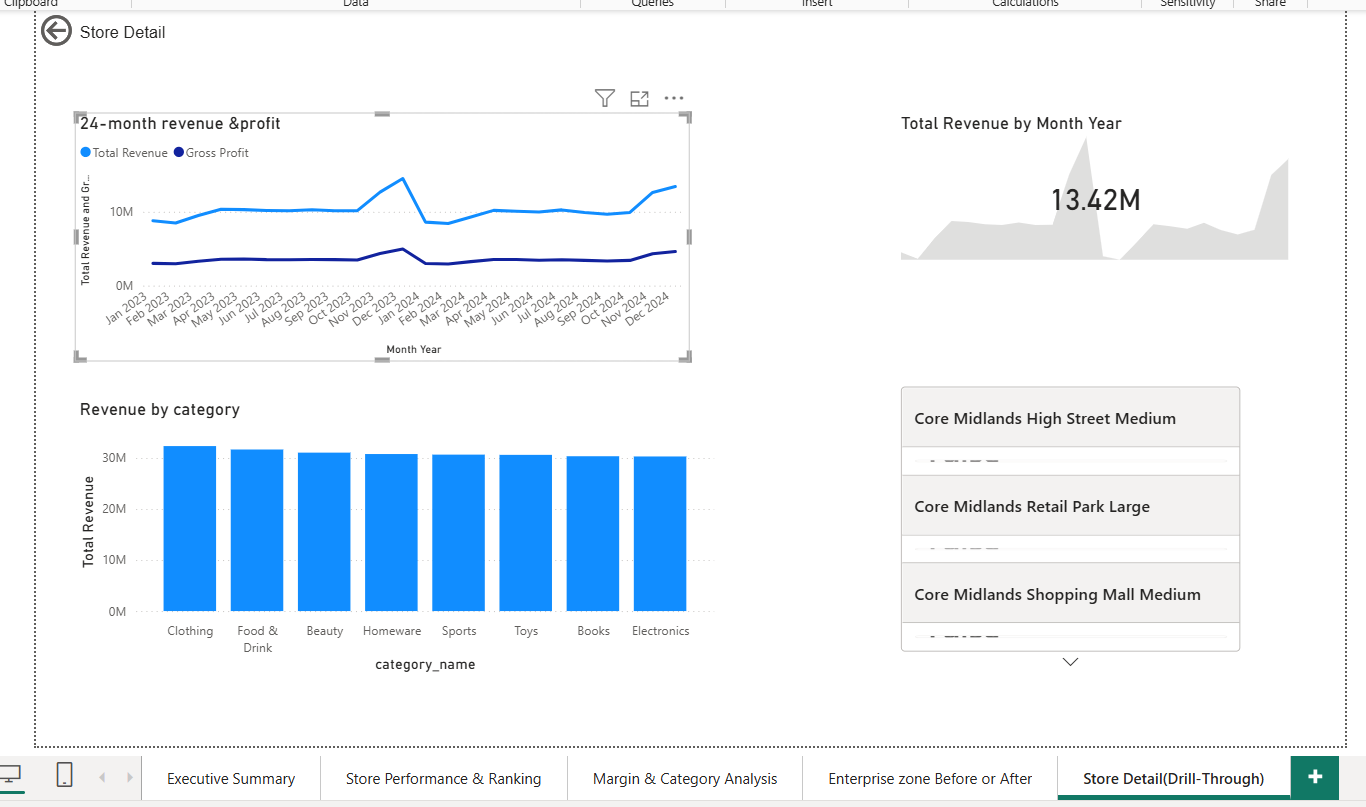

This screenshot's page, from the dashboard's own definition file:
{"tool":"powerbi","page":{"name":"Store Detail(Drill-Through)","canvas":[1280,720],"ordinal":4},"visuals":[{"type":"actionButton","box":[0,0,100,40],"z":0},{"type":"actionButton","box":[0,0,100,40],"z":4000},{"type":"textbox","box":[37.9,8.6,552.7,31.8],"z":5000},{"type":"lineChart","title":"24-month revenue &profit","fields":{"Category":["DateTable.Month Year"],"Y":["Table.Total Revenue","Table.Gross Profit"]},"box":[37.9,100.3,601.6,243.3],"z":5001},{"type":"clusteredColumnChart","title":"Revenue by category","fields":{"Category":["Categories.category_name"],"Y":["Table.Total Revenue"]},"box":[37.9,380.3,631,272.7],"z":5002},{"type":"kpi","fields":{"Indicator":["Table.Total Revenue"],"TrendLine":["DateTable.Month Year"]},"box":[841.3,100.3,388.9,149.2],"z":5003},{"type":"cardVisual","fields":{"Rows":["Stores.brand","Stores.region","Stores.store_type","Stores.Size Band"],"Data":["Stores.EZ Status"]},"box":[841.3,343.6,342.4,309.4],"z":5004}]}

Visuals, with their boxes on the page's 1280x720 design canvas (x1, y1, x2, y2). These are canvas units, not pixel positions in the 1366x807 screenshot, which may show the page scaled, cropped or inside an application window:
actionButton: 0, 0, 100, 40
actionButton: 0, 0, 100, 40
textbox: 38, 9, 591, 40
"24-month revenue &profit" lineChart: 38, 100, 640, 344
"Revenue by category" clusteredColumnChart: 38, 380, 669, 653
kpi - Table.Total Revenue x DateTable.Month Year: 841, 100, 1230, 250
cardVisual - Stores.brand x Stores.region: 841, 344, 1184, 653
